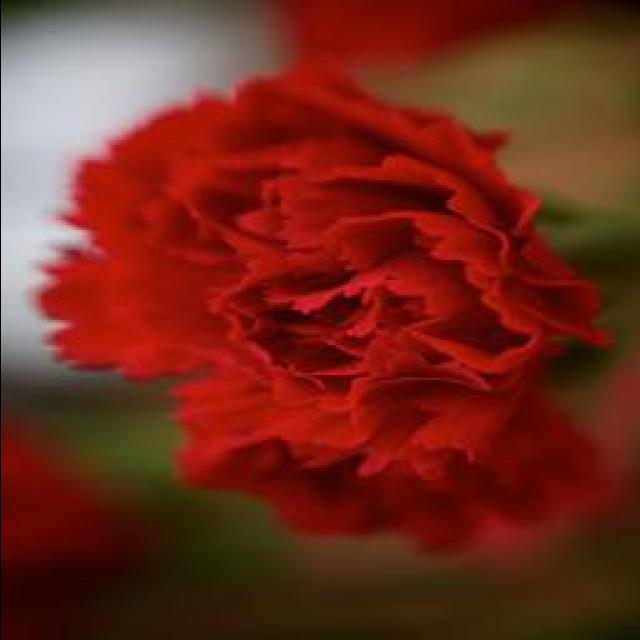carnation: (40, 50, 572, 568)
